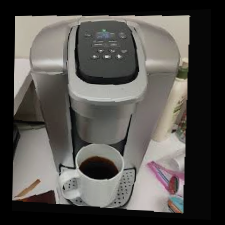10oz: (103, 55, 111, 61)
12oz: (115, 55, 123, 60)
4oz: (97, 48, 105, 54)
6oz: (109, 48, 117, 54)
8oz: (91, 54, 99, 60)
